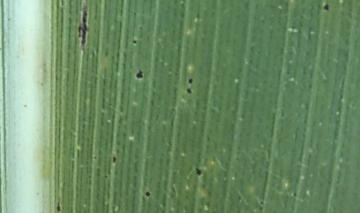tarspot: (75, 2, 91, 52), (134, 67, 146, 82), (191, 164, 204, 177), (182, 85, 196, 97), (53, 199, 64, 213), (141, 188, 154, 199), (184, 75, 197, 86), (322, 1, 331, 16), (130, 37, 139, 46), (111, 154, 117, 162)
